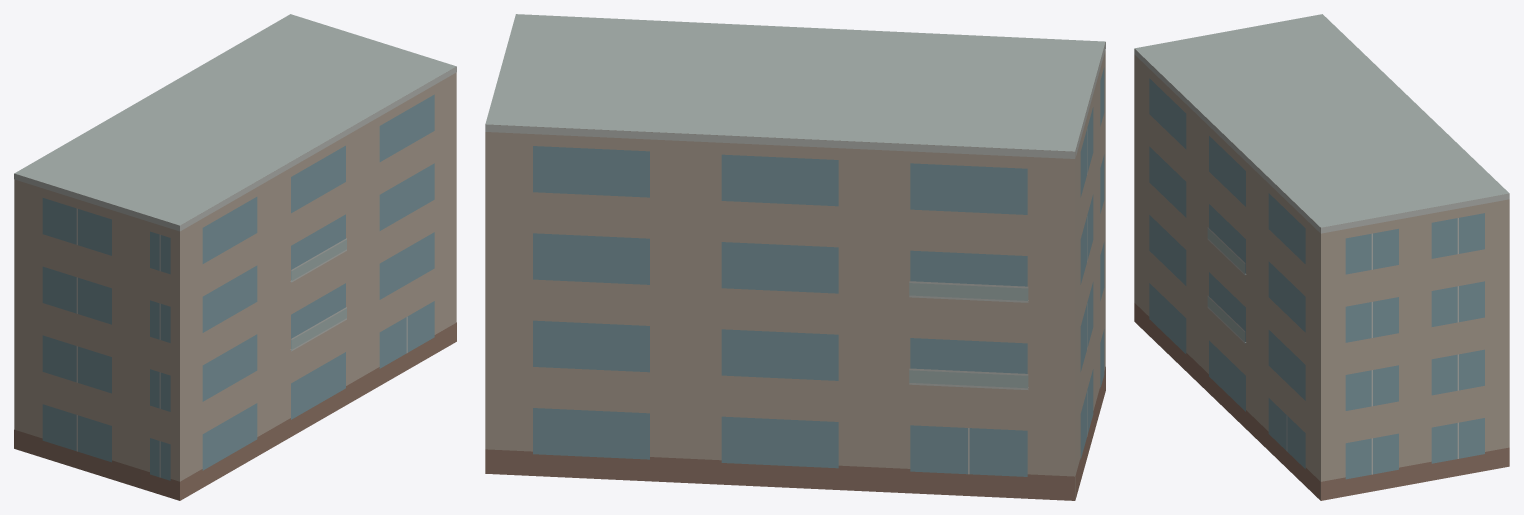
The model's file is survey-upis-32677920.glb.
The picture shows the model from 3 angles, left to right: view 1: azimuth 30°, elevation 25°; view 2: azimuth 150°, elevation 25°; view 3: azimuth 270°, elevation 25°; orthographic projection. The views are drawn at different scales.
Parts seen in each view (by area): view 1: survey-upis-32677920.tmp; view 2: survey-upis-32677920.tmp; view 3: survey-upis-32677920.tmp.
Boxes of the visible parts, x1,y1,x2,y2 form: survey-upis-32677920.tmp: [14, 14, 456, 500]; survey-upis-32677920.tmp: [485, 14, 1105, 500]; survey-upis-32677920.tmp: [1134, 14, 1509, 500].
Bounding box in the file's own units: 19.15 × 11.4 × 14.21.
